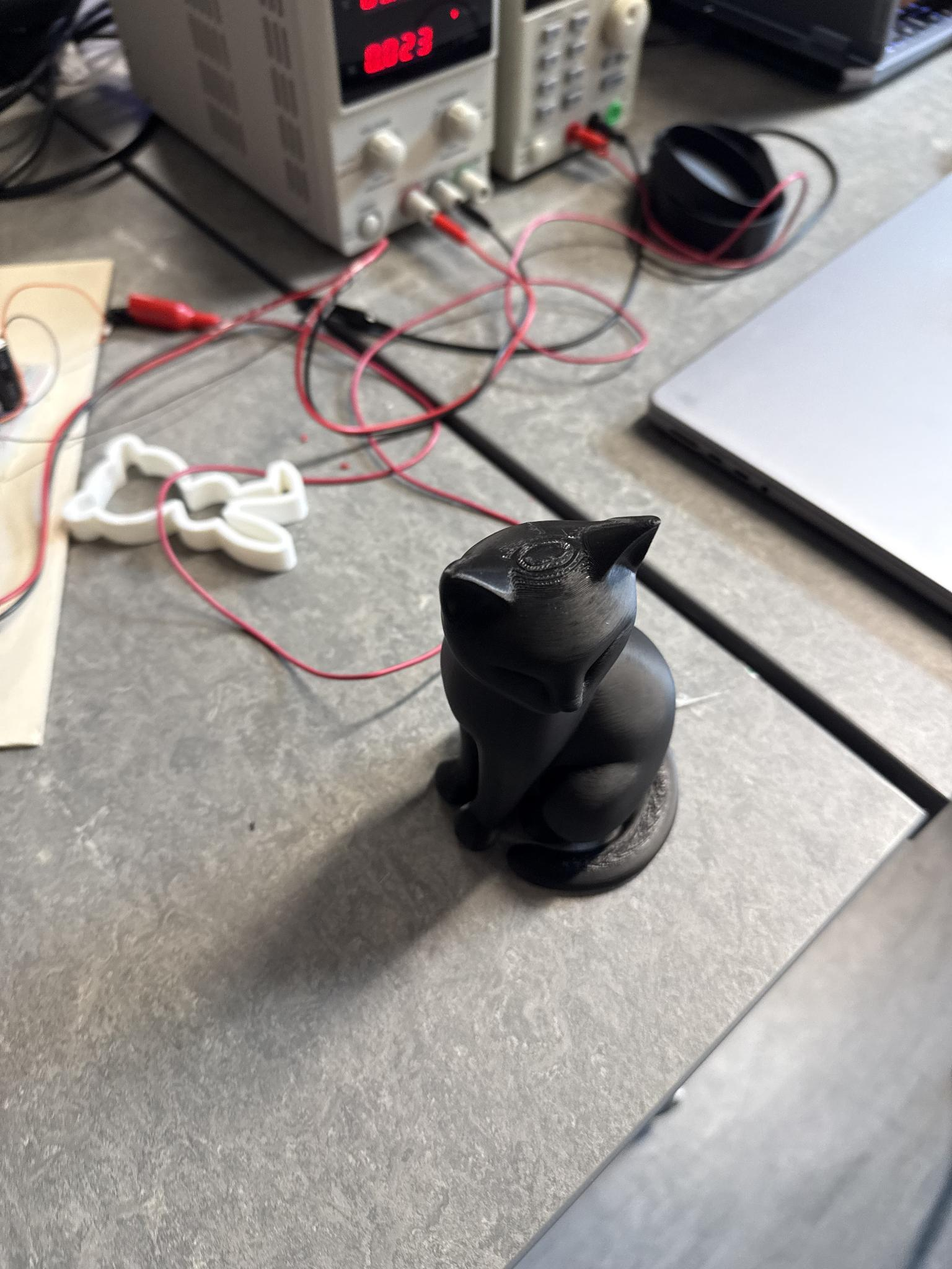cat: (434, 508, 678, 896)
